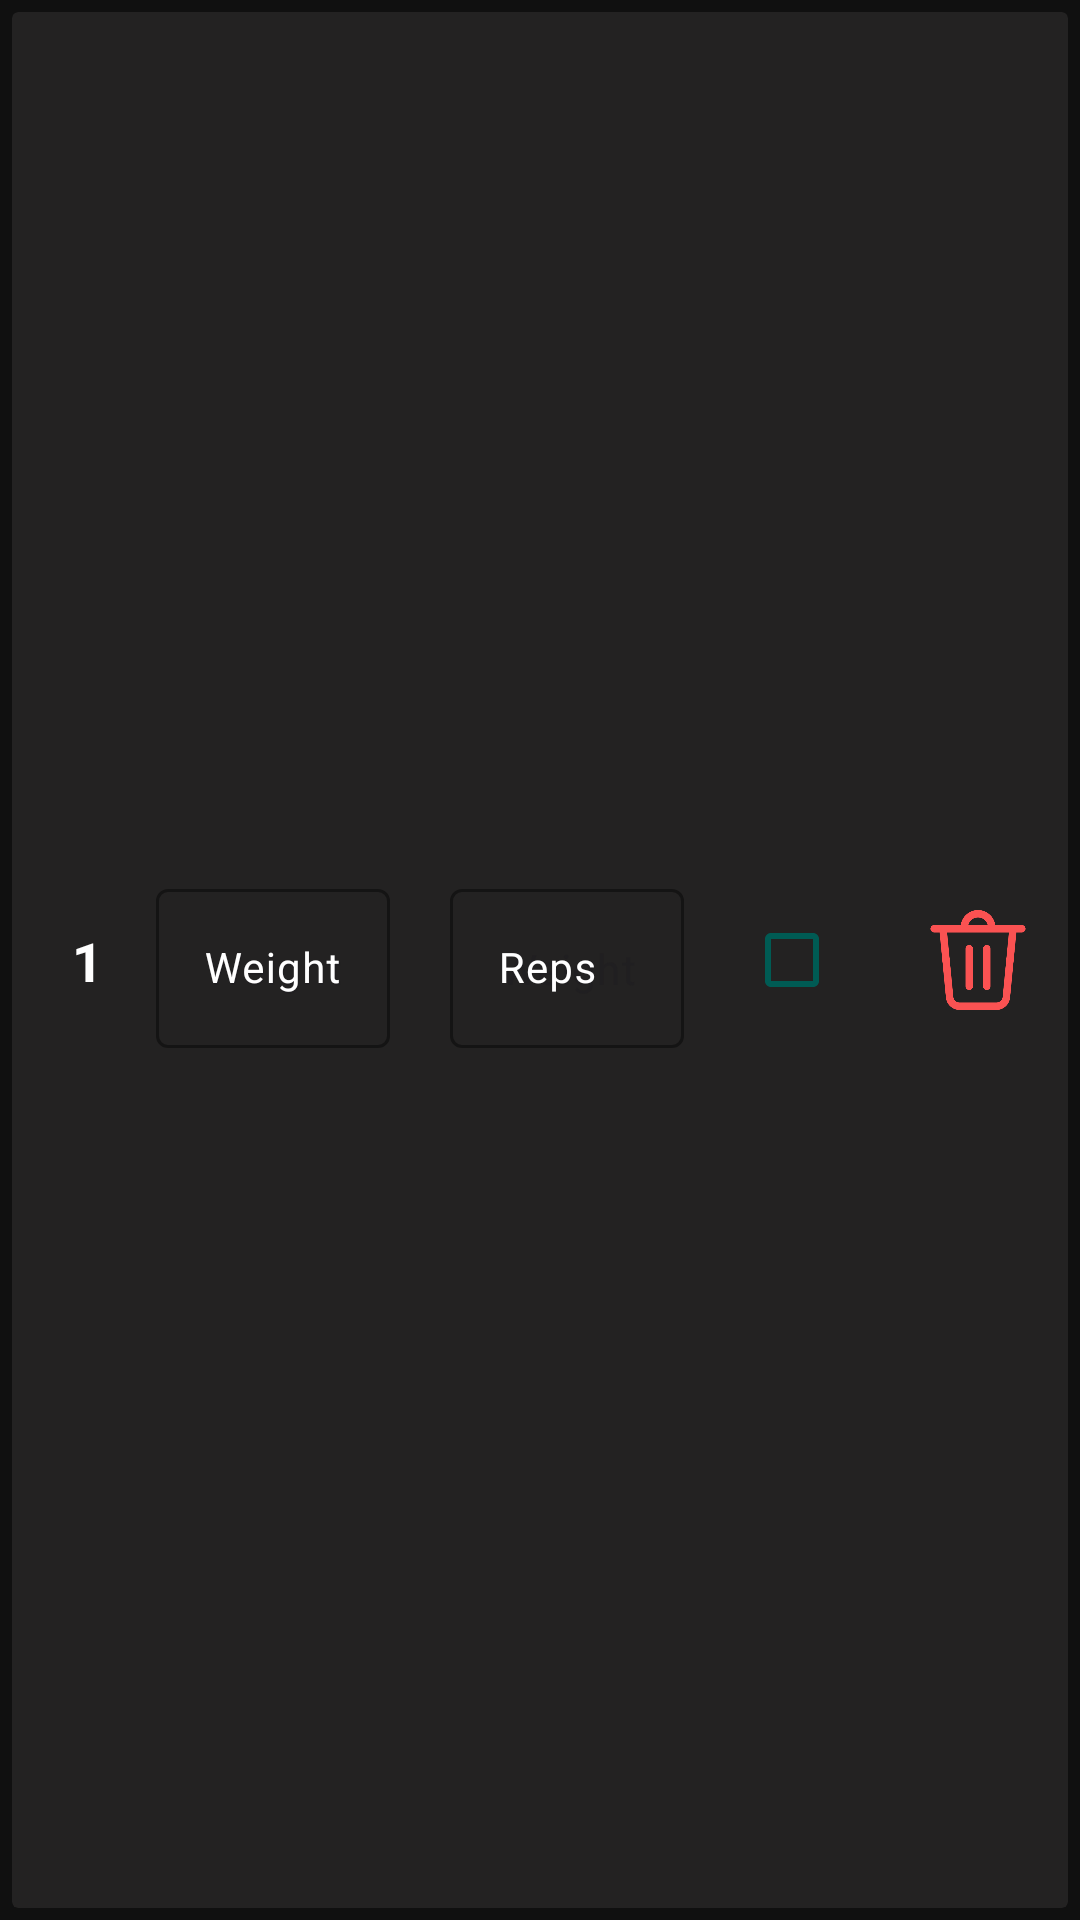

Where icons sit on this 1080x1920 app screen, as (x1, y1, x2, y2):
trash can: (930, 910, 1026, 1010)
